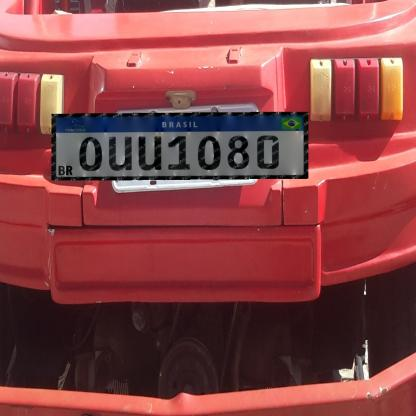PlacaM: (52, 112, 309, 180)
